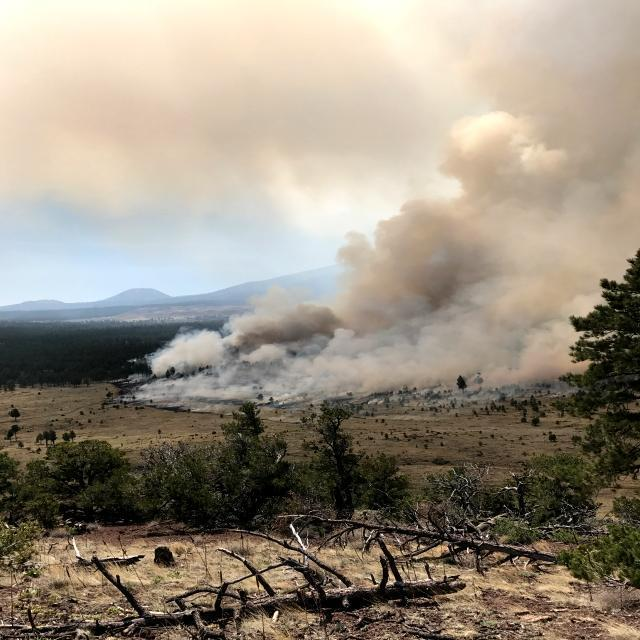Smoke: (95, 34, 640, 406)
